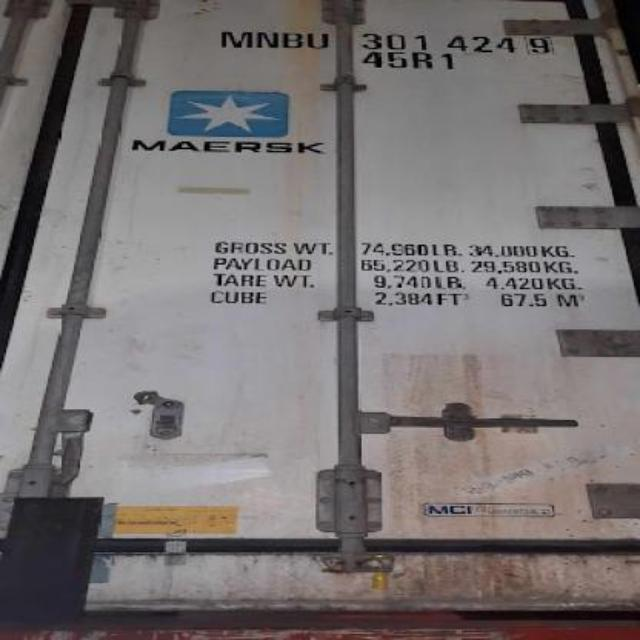0: (384, 34, 408, 50)
1: (408, 33, 432, 51)
2: (472, 33, 496, 53)
3: (360, 33, 384, 49)
4: (446, 33, 472, 53), (498, 32, 520, 54)
9: (528, 37, 554, 53)
B: (280, 31, 306, 49)
M: (220, 28, 256, 48)
N: (254, 31, 282, 49)
U: (306, 31, 332, 49)
